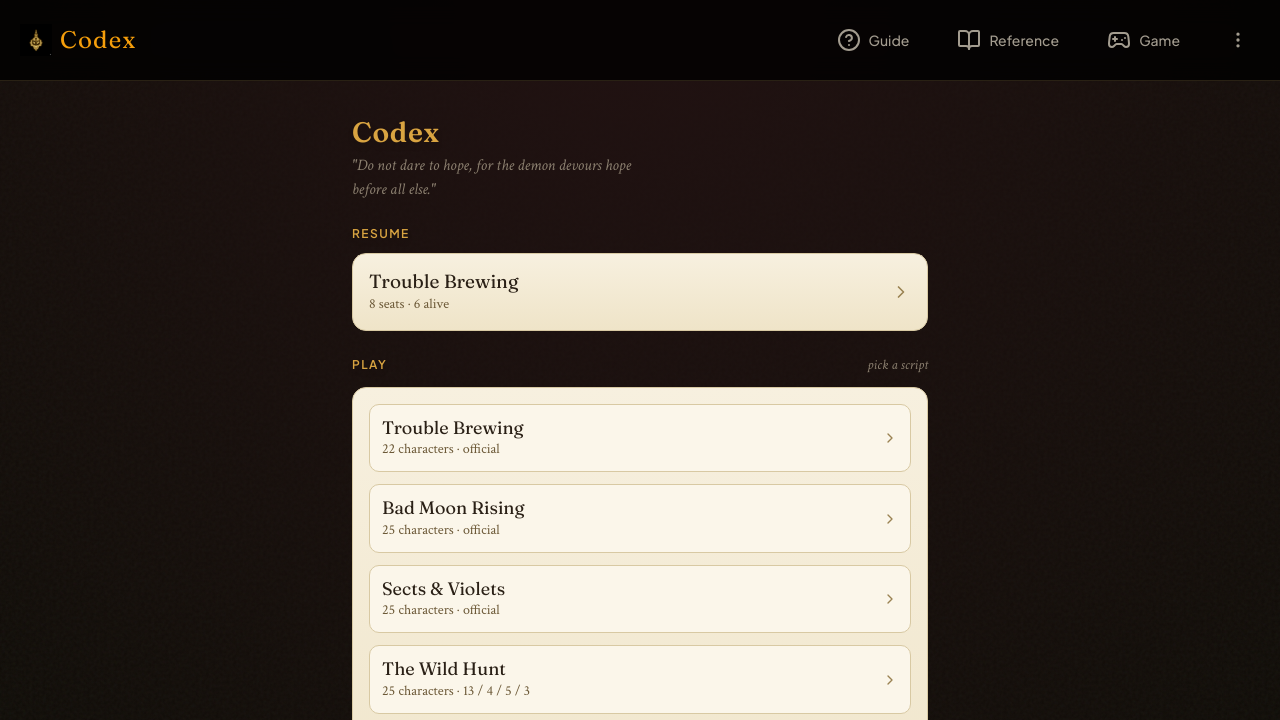
Test: Home replace-game confirm › asks before replacing a saved game, and Cancel stays put
Expected: the link with test id "card-resume" is shown, [352,253,928,331]
Click the button with test id "button-play-script-bmr": click(453, 508) [369,484,911,553]
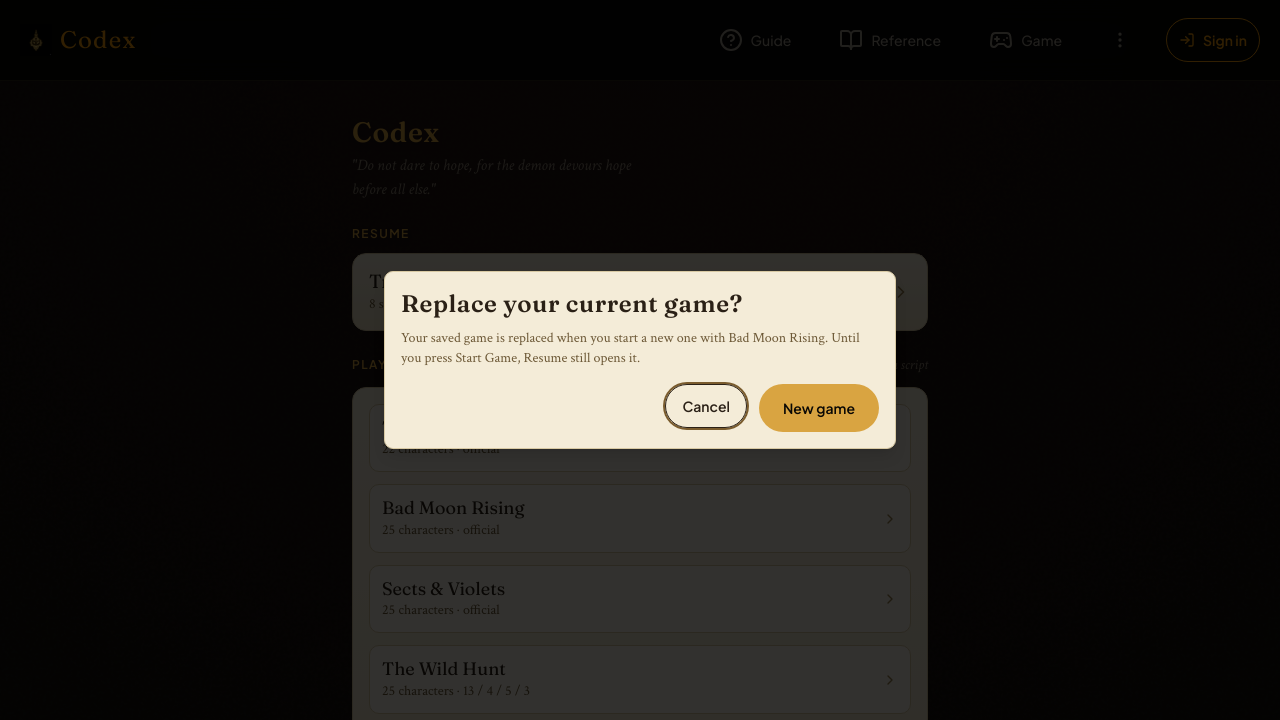
Now the heading "Replace your current game?" is shown, box [401,289,743,318]
Click the button with test id "button-cancel-replace-game": click(706, 406) [665,384,747,428]
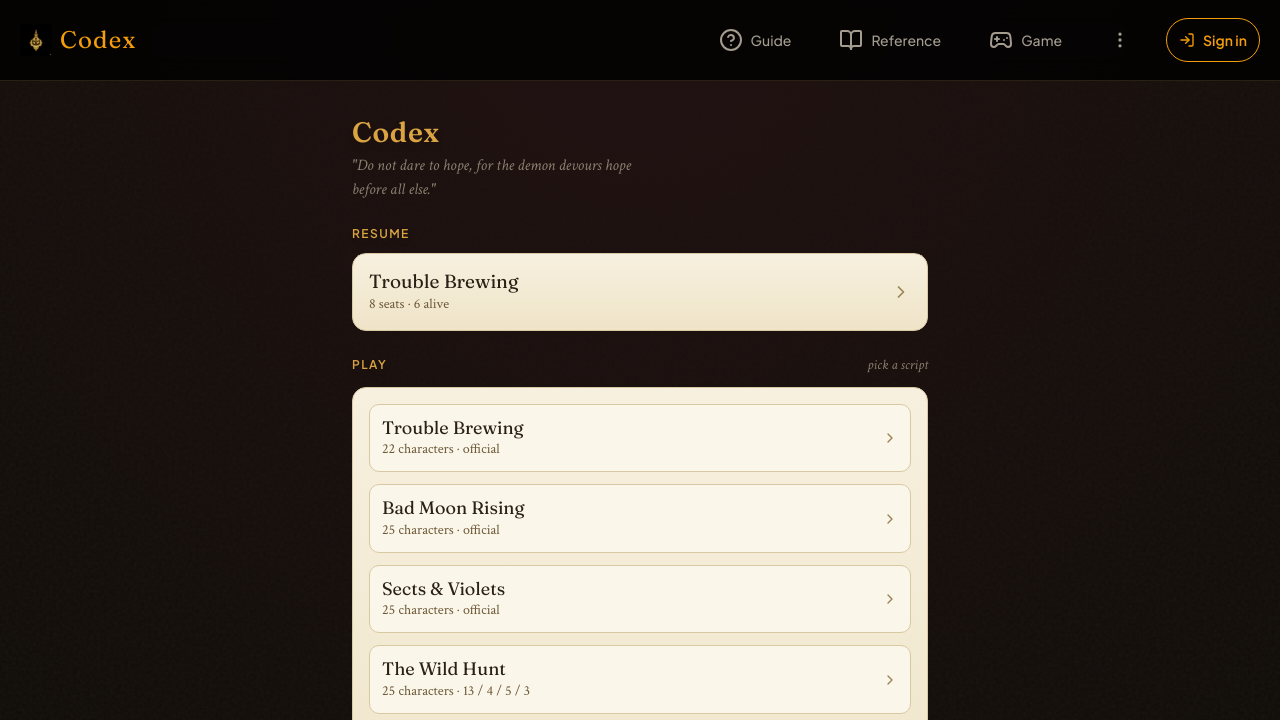
Now the dialog with test id "dialog-replace-game" is gone
